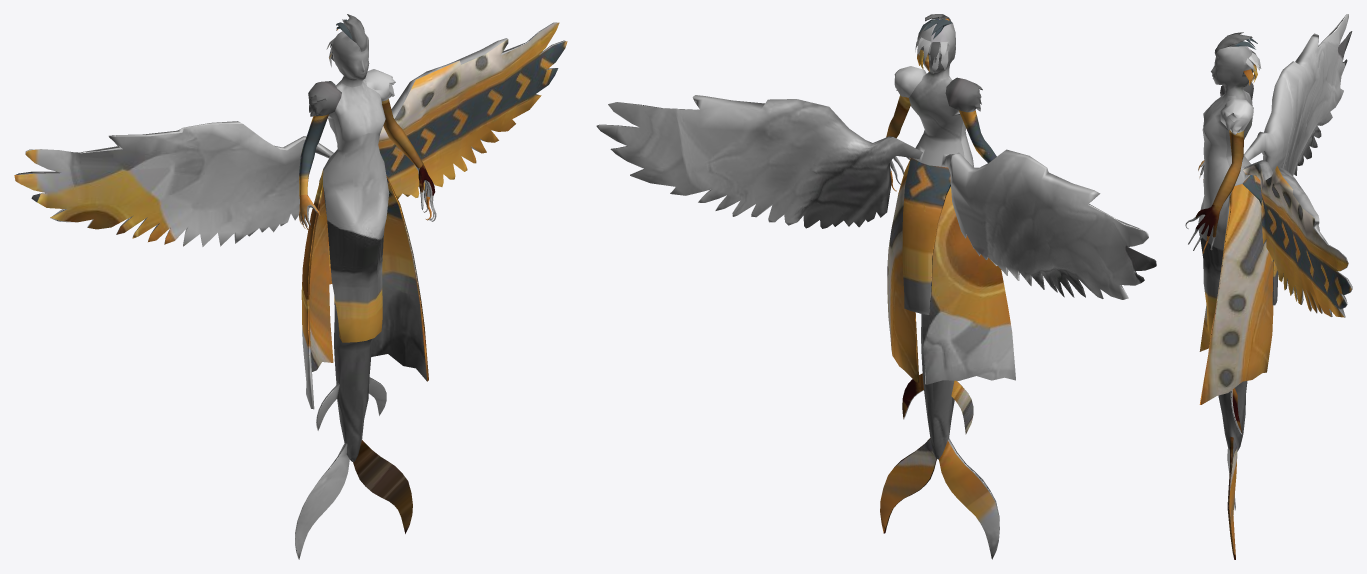
Rendered from 154-siren.glb.
The picture shows the model from 3 angles, left to right: view 1: azimuth 30°, elevation 25°; view 2: azimuth 150°, elevation 25°; view 3: azimuth 270°, elevation 25°; orthographic projection. The views are drawn at different scales.
Bounding box in the file's own units: 4.81 × 4.37 × 1.32.
Materials: 1 (1 with a texture image).
